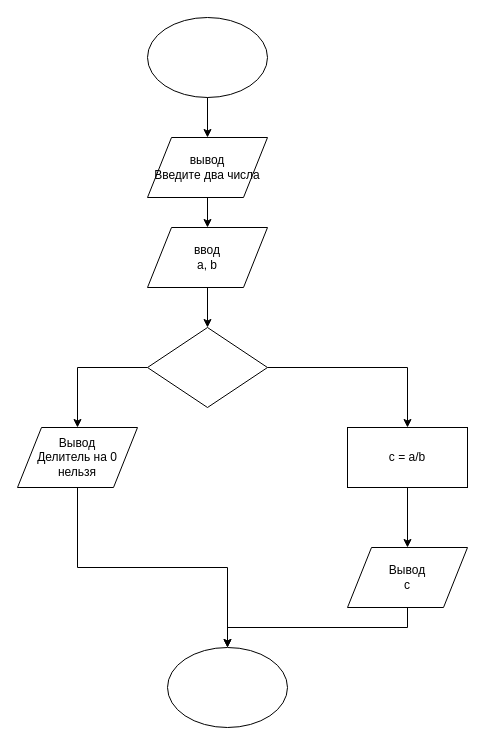
The diagram is 485 pixels wide and 745 high, and some of its shapes have lost their labels. The shapes that lost their labels are listed below. From the top down, each one's box as (x1, y1, x2, y2) in pixels, then its label:
(146, 16, 268, 98): Начало
(146, 326, 268, 408): if b<>0
(166, 646, 288, 728): Конец
